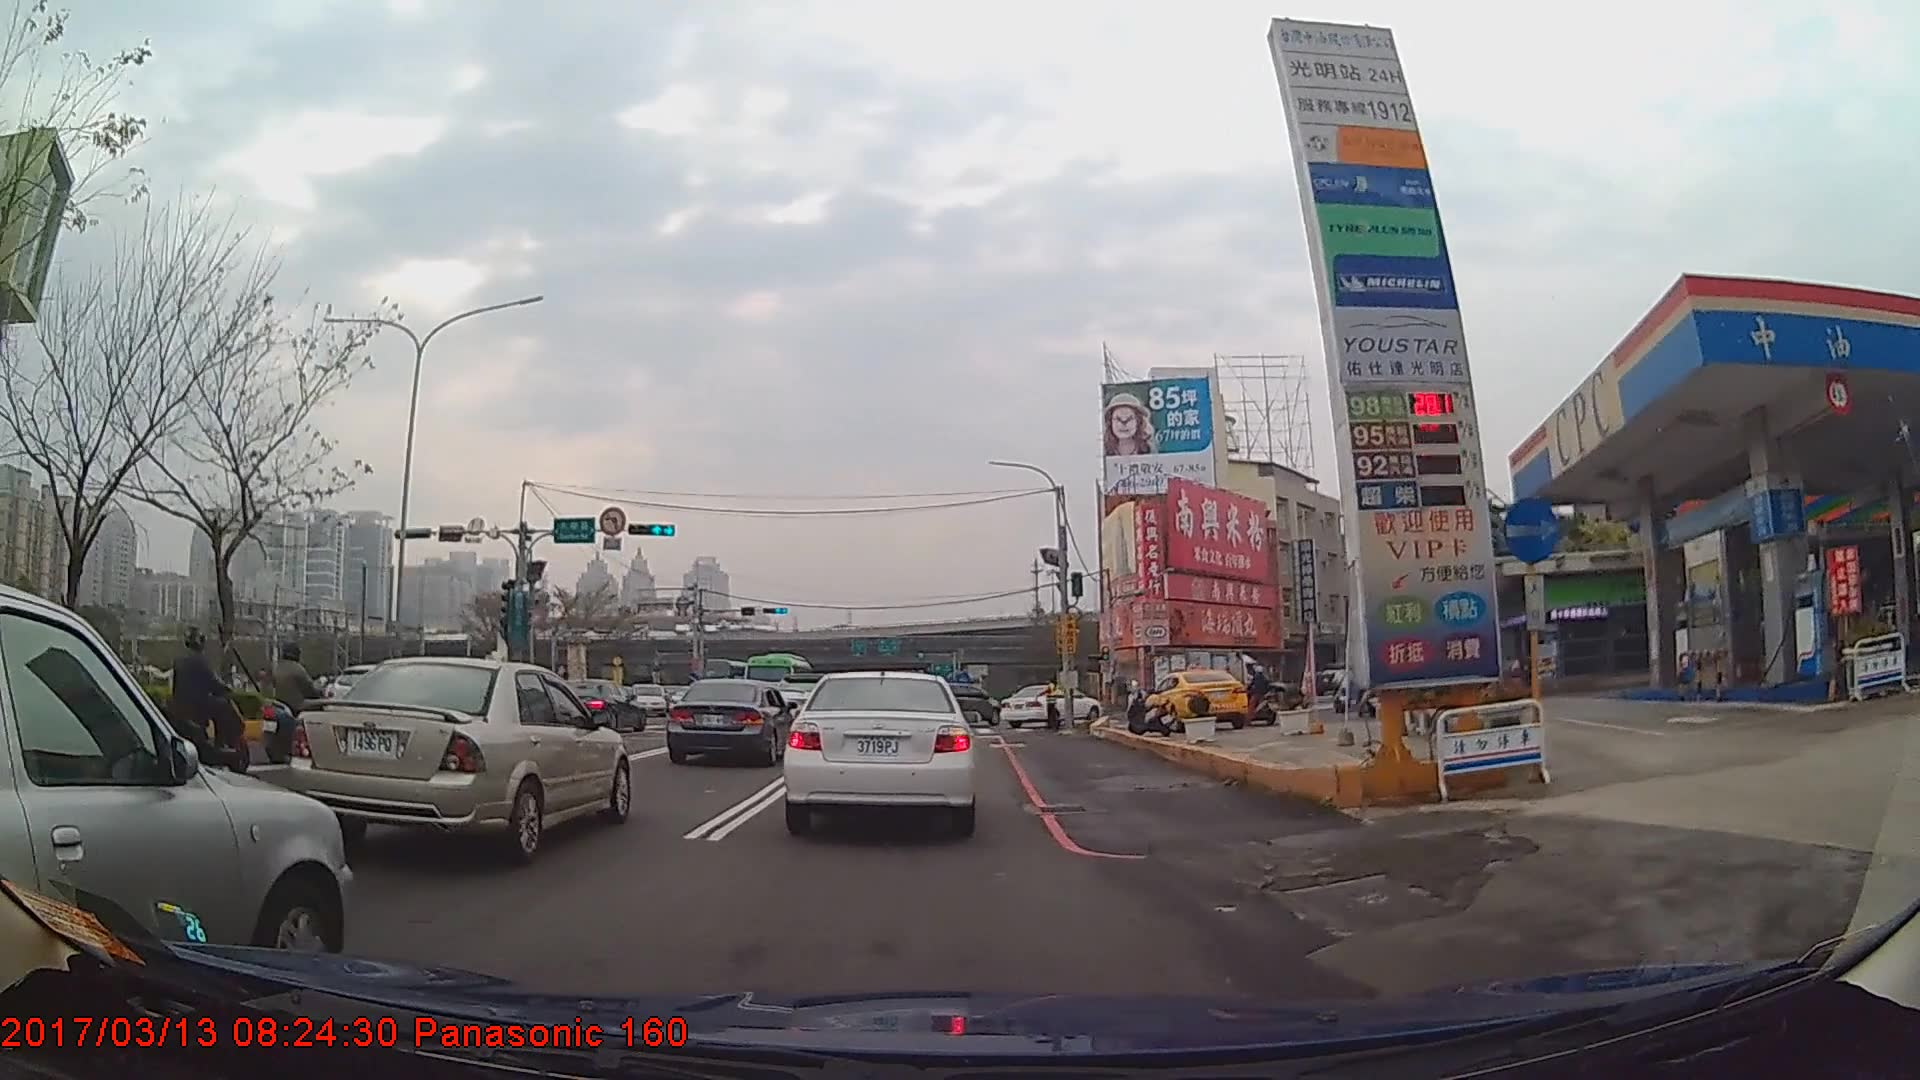pedestrian: (1033, 677, 1060, 733)
rider: (157, 626, 248, 780), (263, 642, 337, 764), (1338, 656, 1381, 718), (1242, 666, 1280, 727)
vehicle: (0, 582, 352, 984), (292, 656, 632, 865), (777, 671, 977, 843), (668, 678, 798, 767), (1149, 647, 1264, 713), (1148, 669, 1256, 732), (551, 678, 648, 732), (1000, 682, 1104, 729), (743, 652, 817, 710), (927, 681, 1003, 727)
